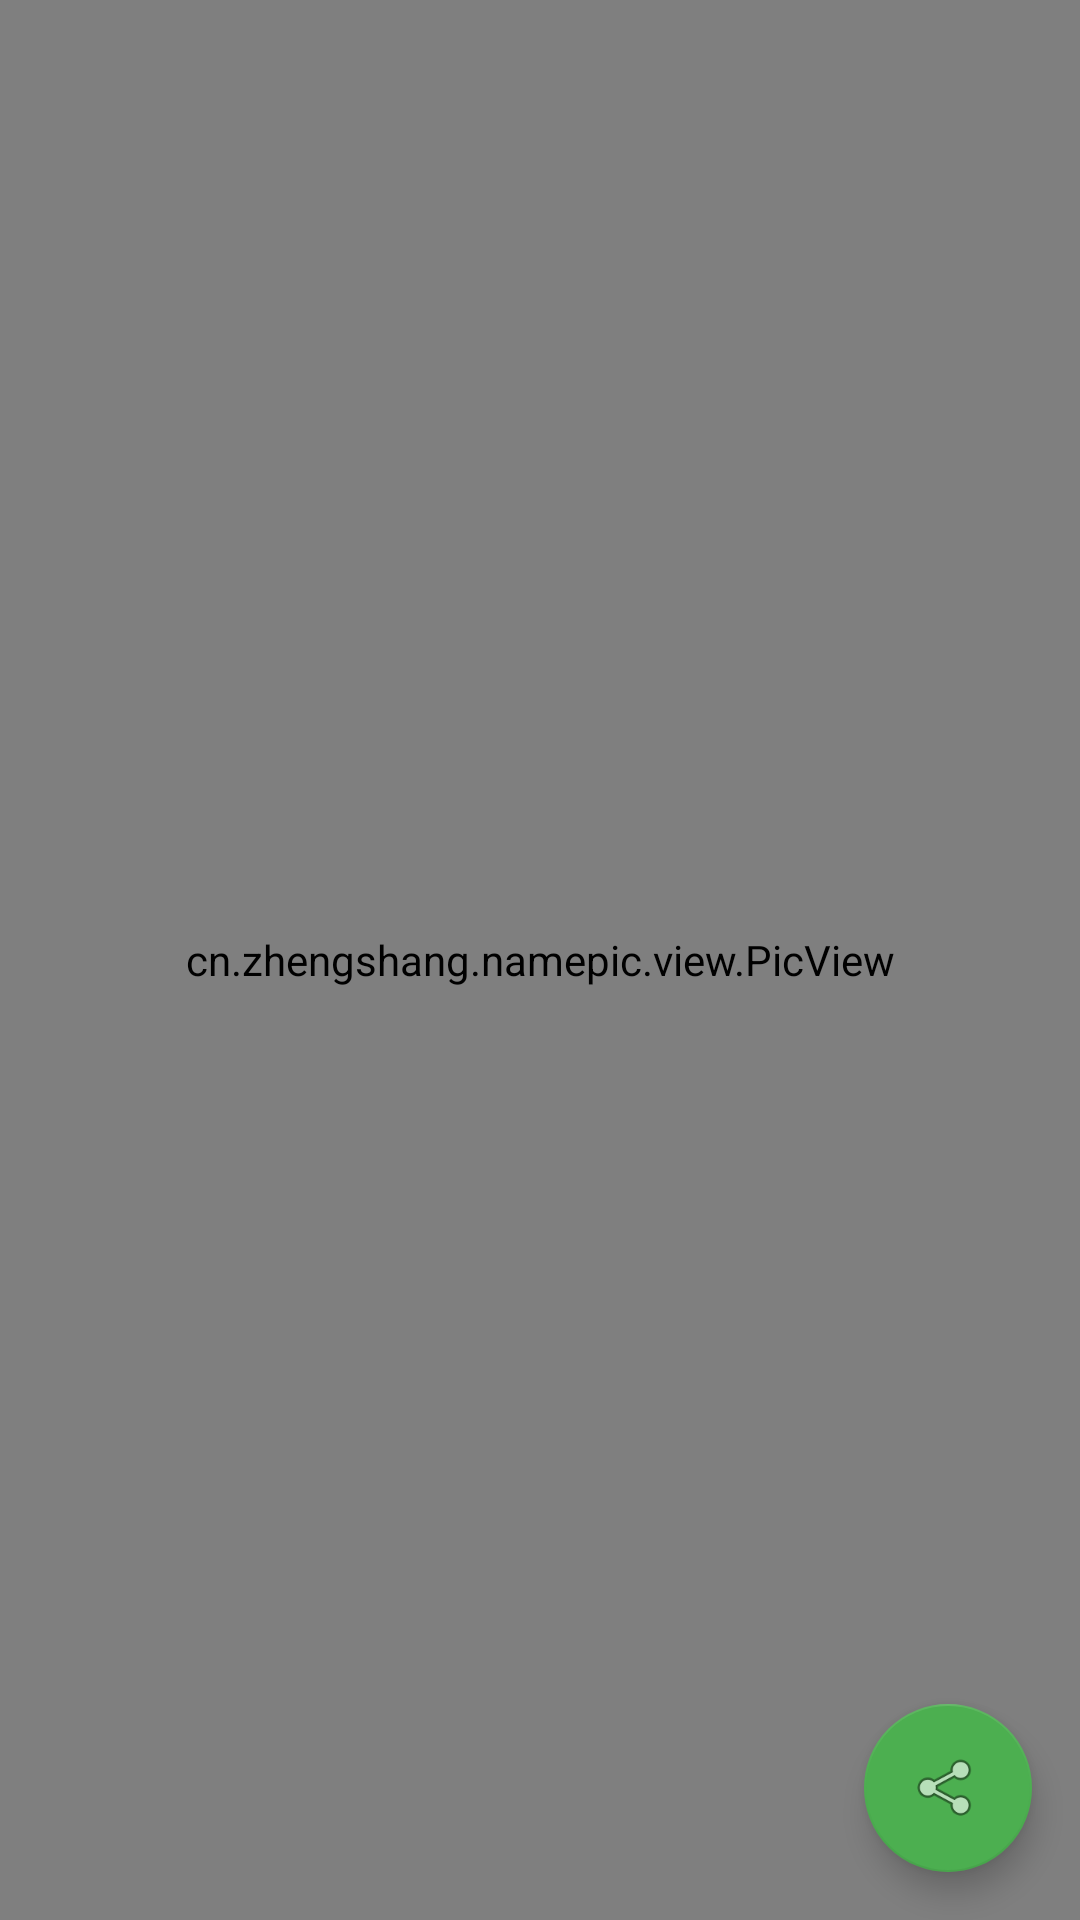

Where icons sit on this 1080*1920 app screen, as (x1, y1, x2, y2):
share: (864, 1704, 1032, 1872)
